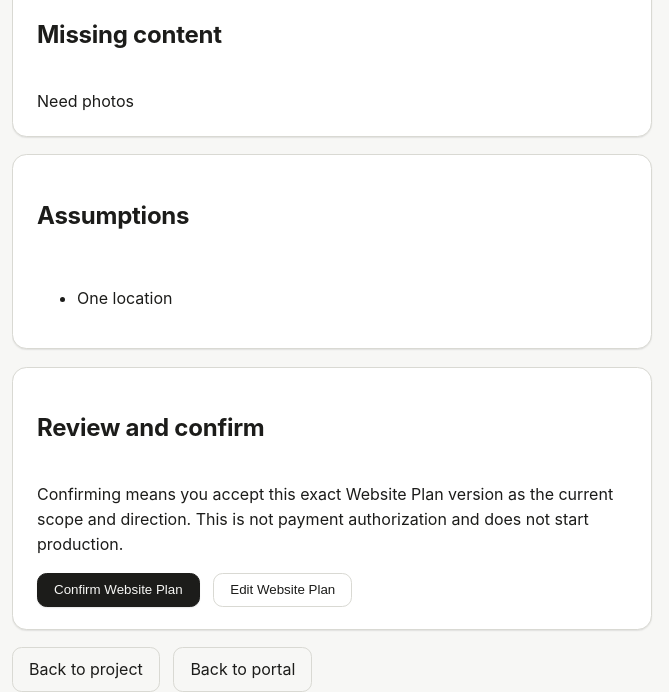
WebsitePlanPanel › shows proposal-ready copy when confirm returns Quote and Offer
(page scrolled)
Click the button "Confirm Website Plan" at (118, 590), box top-left (37, 573), bottom-right (200, 607)
(page scrolled)
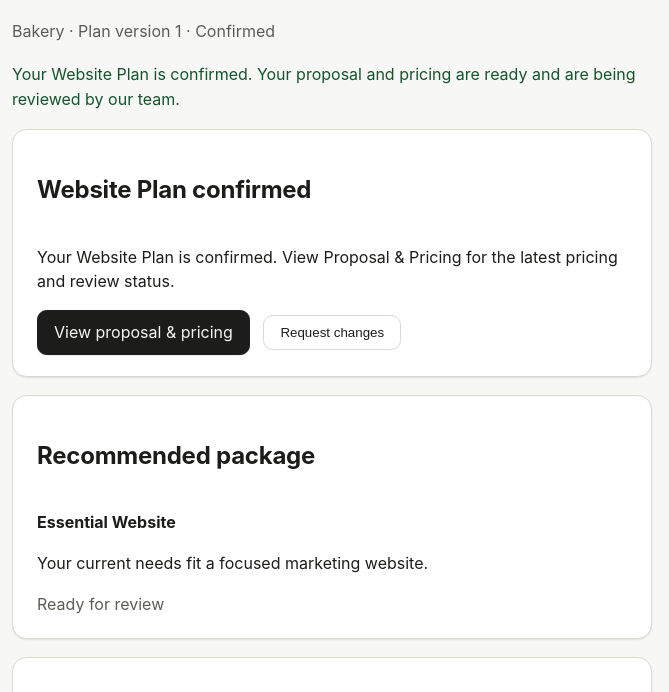
Result: the text "proposal and pricing are ready" is shown at top-left (12, 64), bottom-right (636, 109)
Result: the link "View proposal & pricing" is shown at top-left (37, 310), bottom-right (250, 354)
